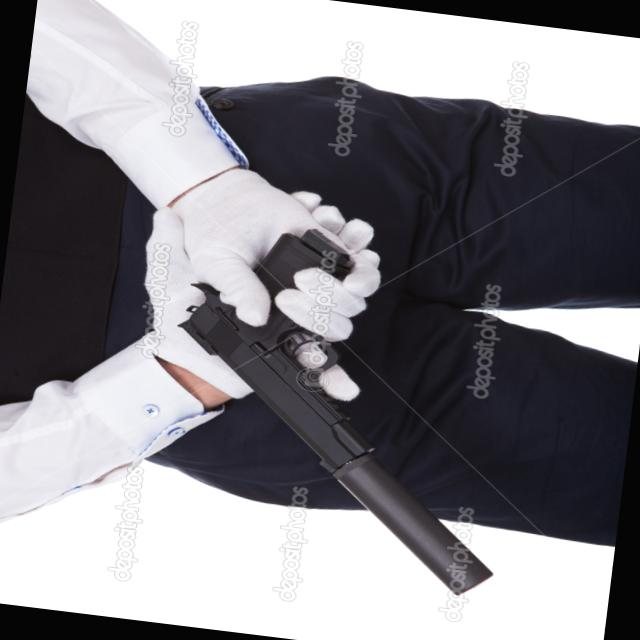handgun: (111, 213, 564, 620)
